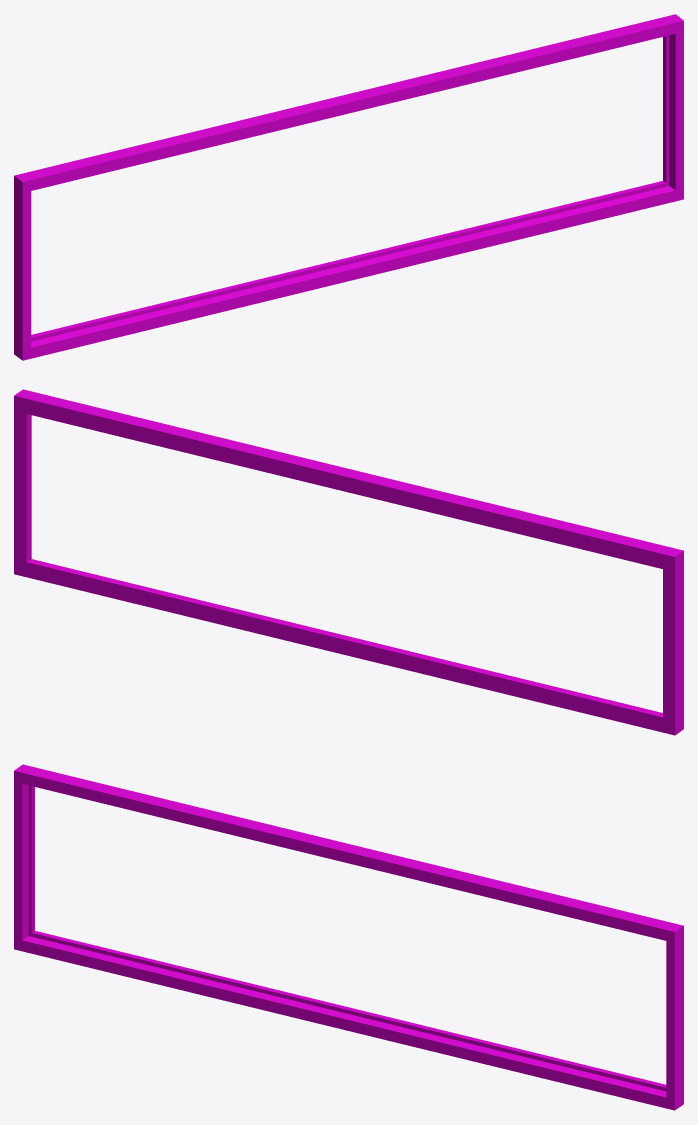
Rendered from Window_B_02_Lod1.fbx.
3 views of the same model, one above another, from view 1: azimuth 30°, elevation 25°; view 2: azimuth 150°, elevation 25°; view 3: azimuth 330°, elevation 25° (orthographic).
Parts seen in each view (by area): view 1: Window_B_02_Lod1; view 2: Window_B_02_Lod1; view 3: Window_B_02_Lod1.
Boxes of the visible parts, box(x1,y1,x2,y2) form: Window_B_02_Lod1: box(14, 14, 683, 360); Window_B_02_Lod1: box(14, 389, 683, 735); Window_B_02_Lod1: box(14, 764, 683, 1110).
Size of the model in its own units: 470 by 121 by 10.81.
